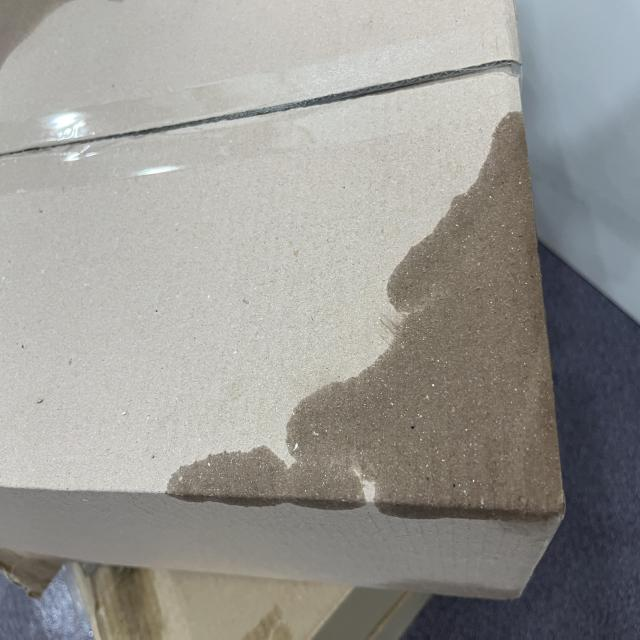wet: (75, 214, 401, 640)
